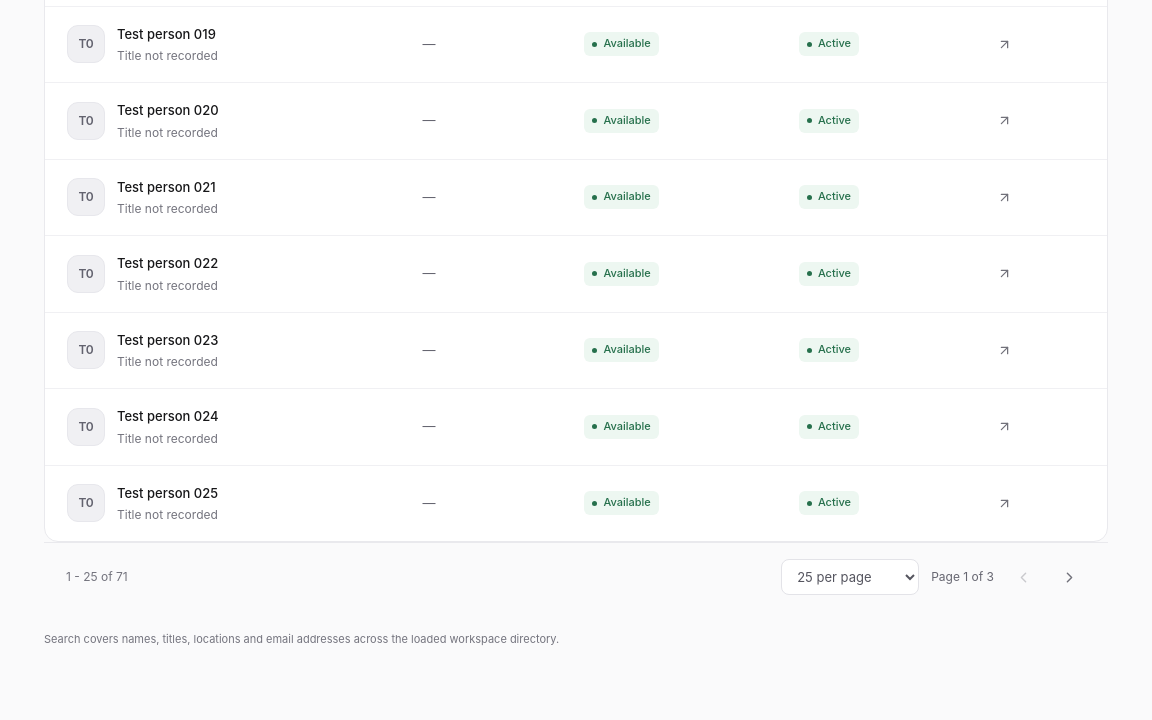
Scenario: allows reaching person 71 rather than silently displaying only 50
The width and height of the screenshot is (1152, 720).
(page scrolled)
Click the button named "Next page".
click(1069, 577)  # box [1052,560,1086,594]
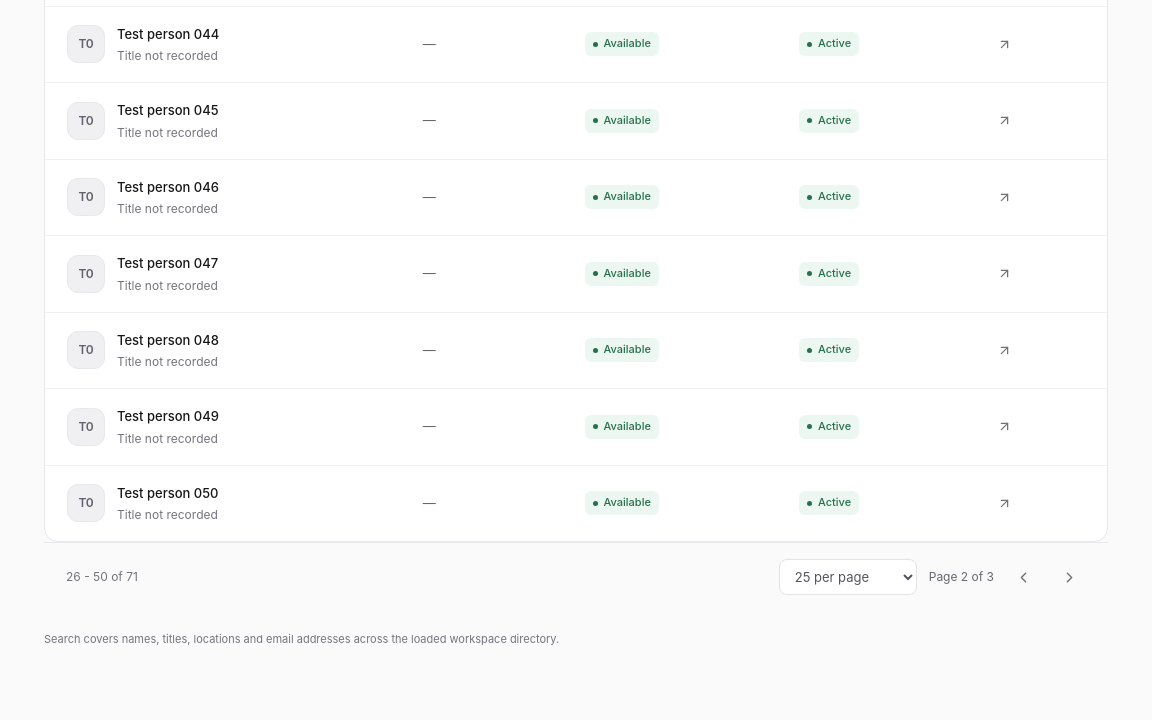
Click the button named "Next page".
click(1069, 577)  # box [1052,560,1086,594]
(page scrolled)
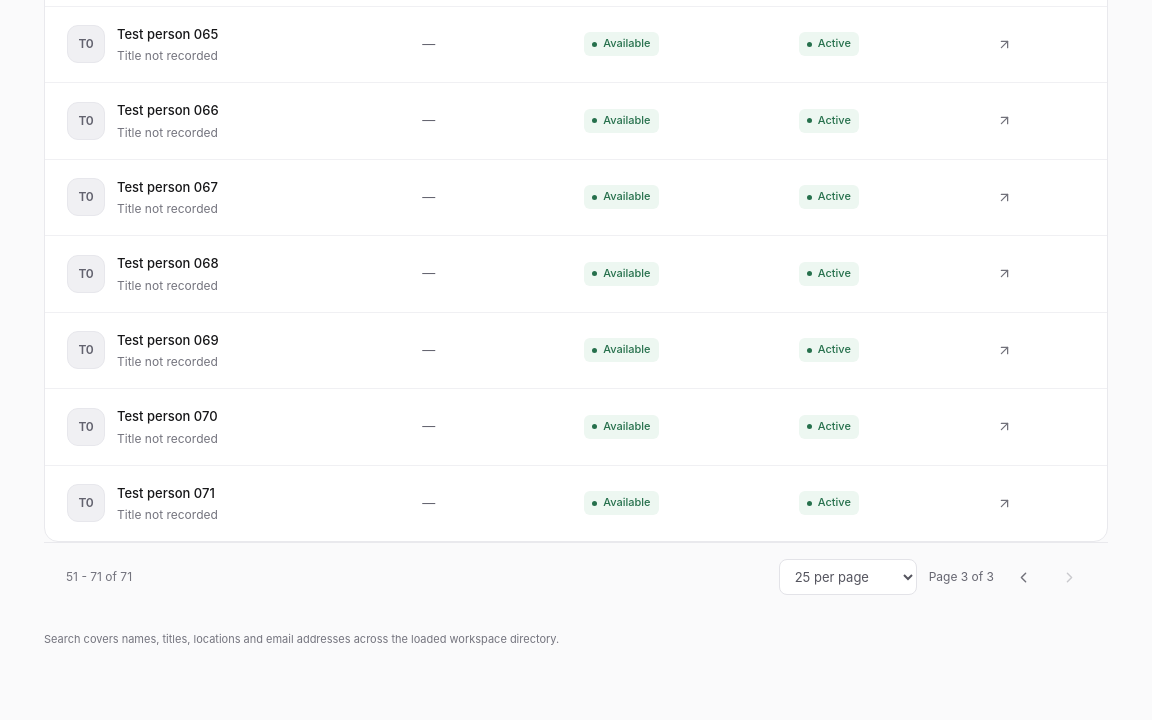
Check: the link "Test person 071" is shown, box [117,484,215,500]
Check: the text "51 - 71 of 71" is shown, box [66,568,132,586]
